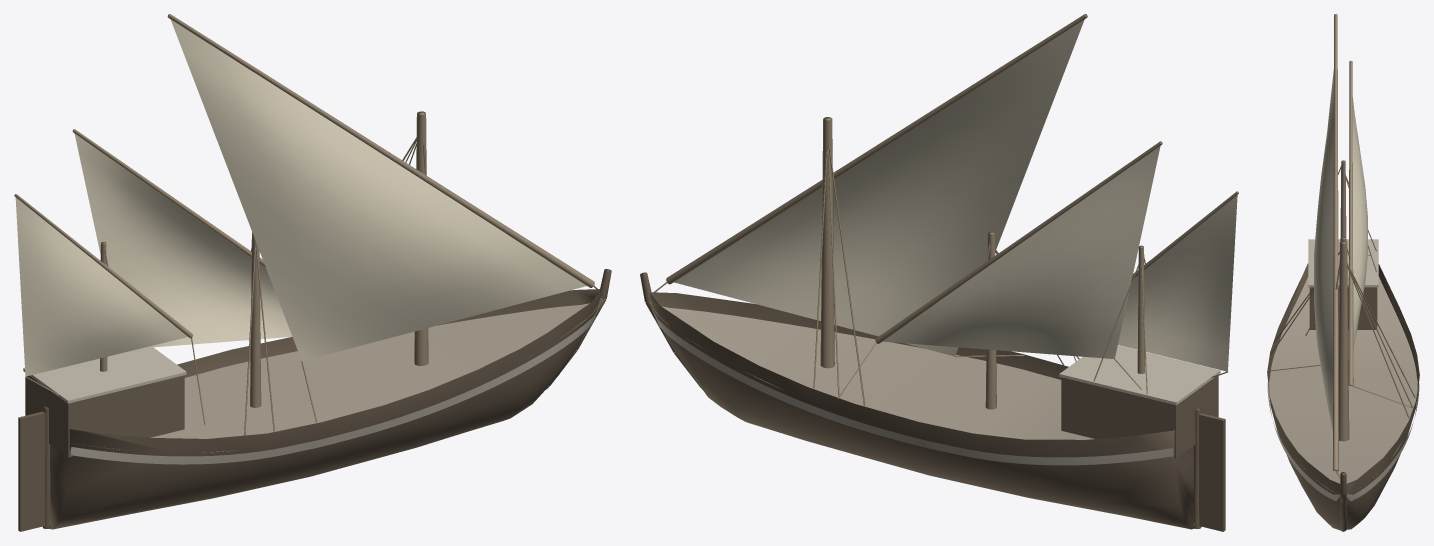
Rendered from caravel-far.glb.
The picture shows the model from 3 angles, left to right: view 1: azimuth 30°, elevation 25°; view 2: azimuth 150°, elevation 25°; view 3: azimuth 270°, elevation 25°; orthographic projection. The views are drawn at different scales.
Parts seen in each view (by area): view 1: sail, hull.001, deck, spar, sterncastle, sterncastle-rail, wale, rudder, hemp, keel; view 2: sail, hull.001, deck, spar, sterncastle, sterncastle-rail, wale, rudder, hemp, keel; view 3: deck, sail, spar, hull.001, hemp, sterncastle-rail, sterncastle, wale, keel.
Part boxes in pixels (<box>): sail: <box>15,20,586,376</box>; hull.001: <box>49,289,601,529</box>; deck: <box>76,303,598,452</box>; spar: <box>14,14,594,407</box>; sterncastle: <box>25,375,184,457</box>; sterncastle-rail: <box>23,347,186,403</box>; wale: <box>71,306,599,464</box>; rudder: <box>18,411,45,531</box>; hemp: <box>25,113,598,435</box>; keel: <box>43,269,611,528</box>; sail: <box>674,19,1237,371</box>; hull.001: <box>650,292,1193,529</box>; deck: <box>653,306,1094,439</box>; spar: <box>666,14,1238,409</box>; sterncastle: <box>1061,376,1218,458</box>; sterncastle-rail: <box>1059,345,1220,405</box>; wale: <box>652,309,1173,465</box>; rudder: <box>1199,413,1225,531</box>; hemp: <box>653,118,1227,405</box>; keel: <box>640,272,1201,528</box>; deck: <box>1269,276,1417,491</box>; sail: <box>1314,69,1367,432</box>; spar: <box>1333,14,1353,471</box>; hull.001: <box>1267,263,1419,530</box>; hemp: <box>1269,166,1415,478</box>; sterncastle-rail: <box>1308,239,1378,287</box>; sterncastle: <box>1309,287,1377,329</box>; wale: <box>1267,382,1419,501</box>; keel: <box>1339,472,1347,531</box>.
Bounding box in the file's own units: 21.76 × 16.91 × 6.08.
